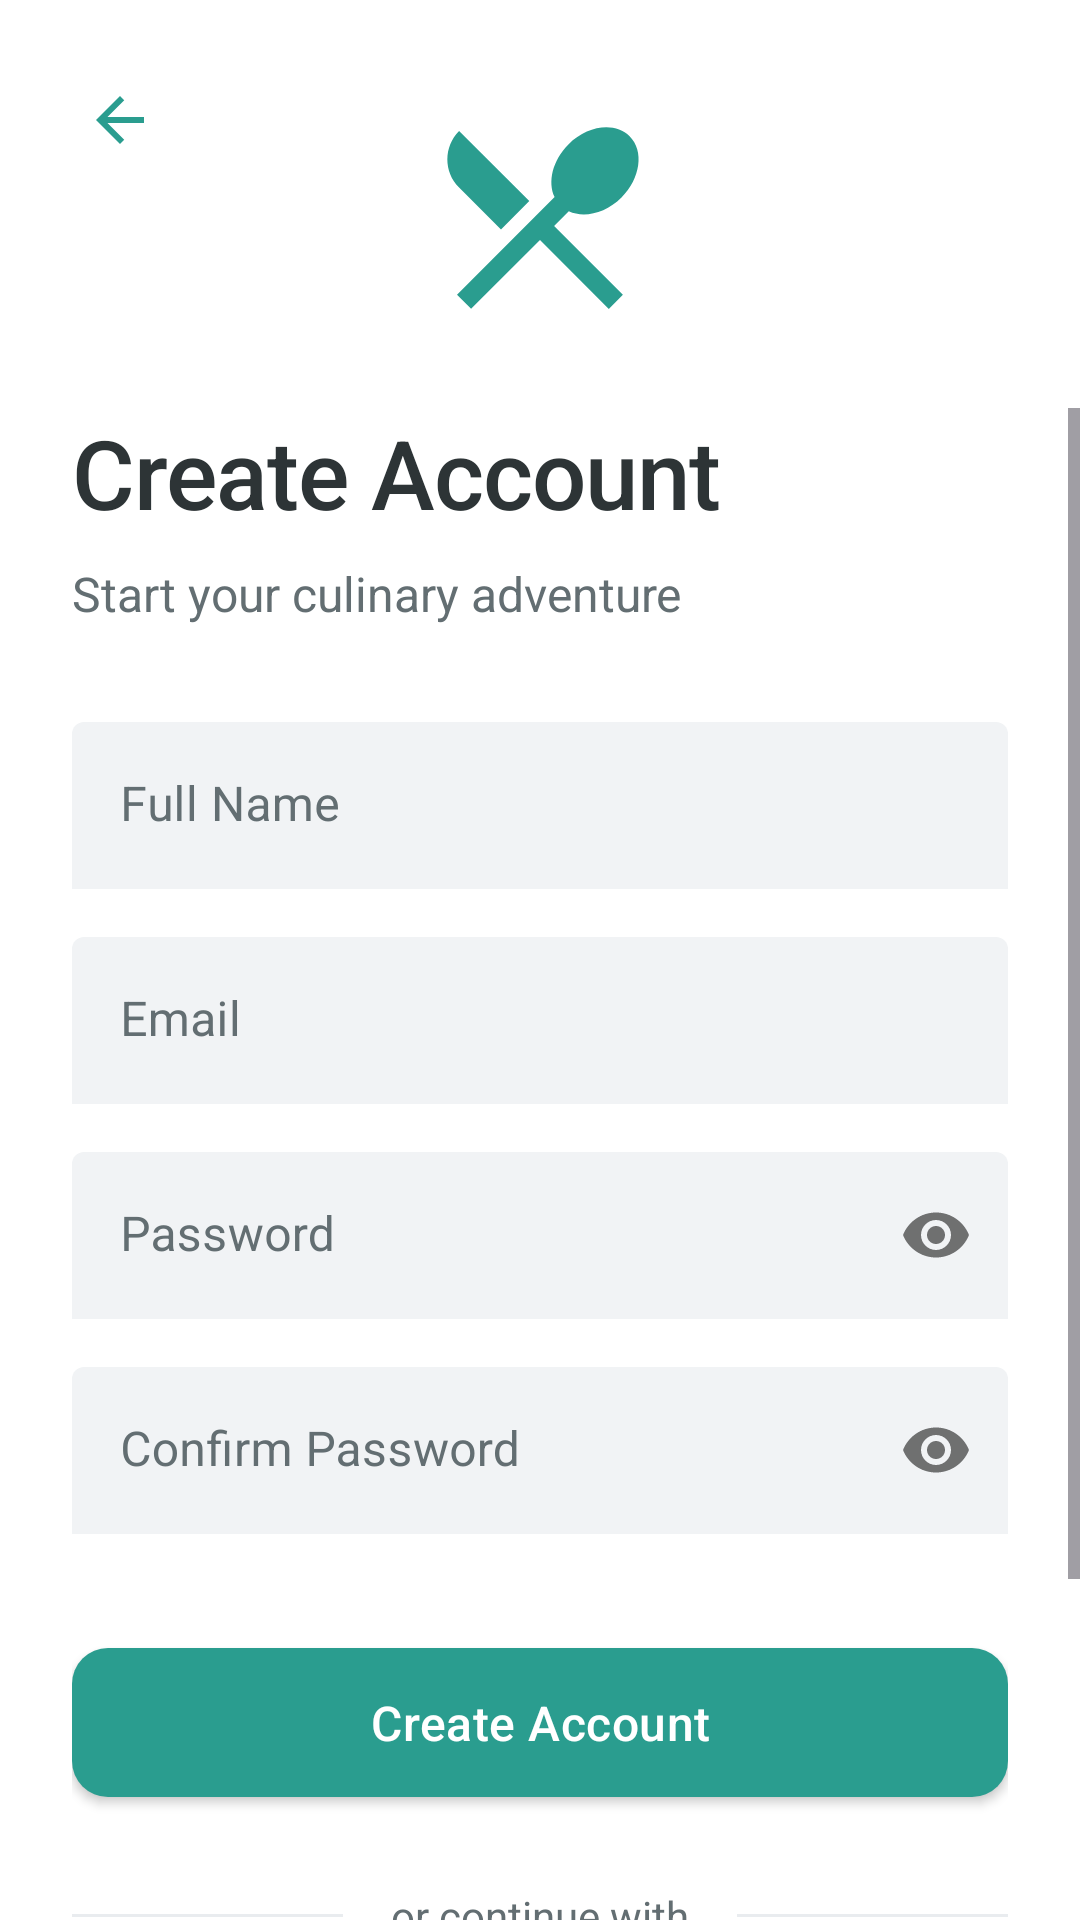

Icon bounding boxes for this 1080*1920 phone screenshot, format (x1, y1, x2, y2):
back: (96, 96, 144, 144)
